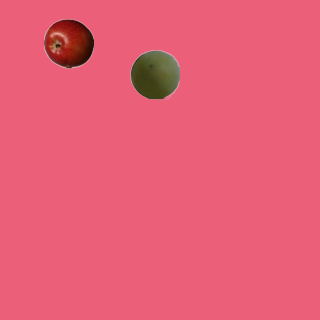Apple Braeburn: (43, 18, 93, 68)
Grape White 4: (129, 49, 179, 99)
